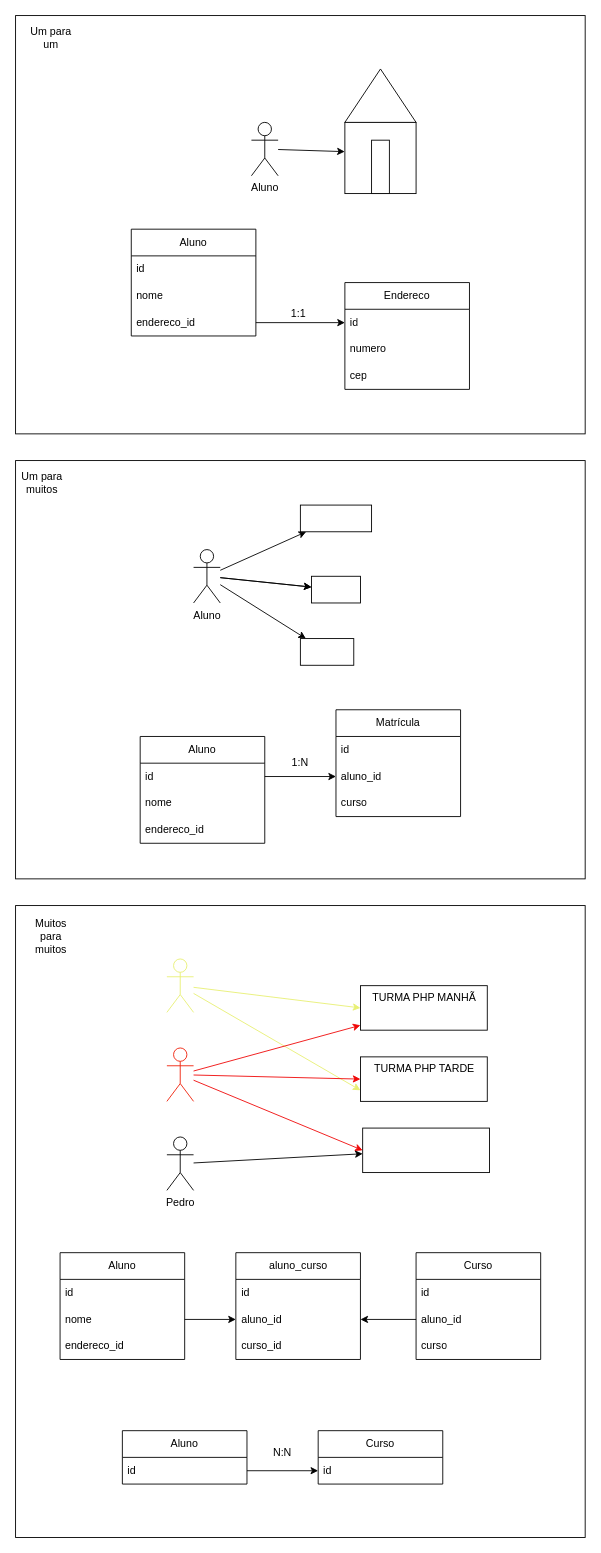
Some shapes in this 601 by 1553 pixel diagram are drawn without their labels. Each missing label, with the centre of its shape:
"HTML" belongs at point 326,651.
"JAVASCRIPT" belongs at point 335,518.
"João" belongs at point 180,985.
"Maria" belongs at point 180,1074.
"PHP" belongs at point 335,589.
"TURMA PHP NOITE" belongs at point 426,1150.
